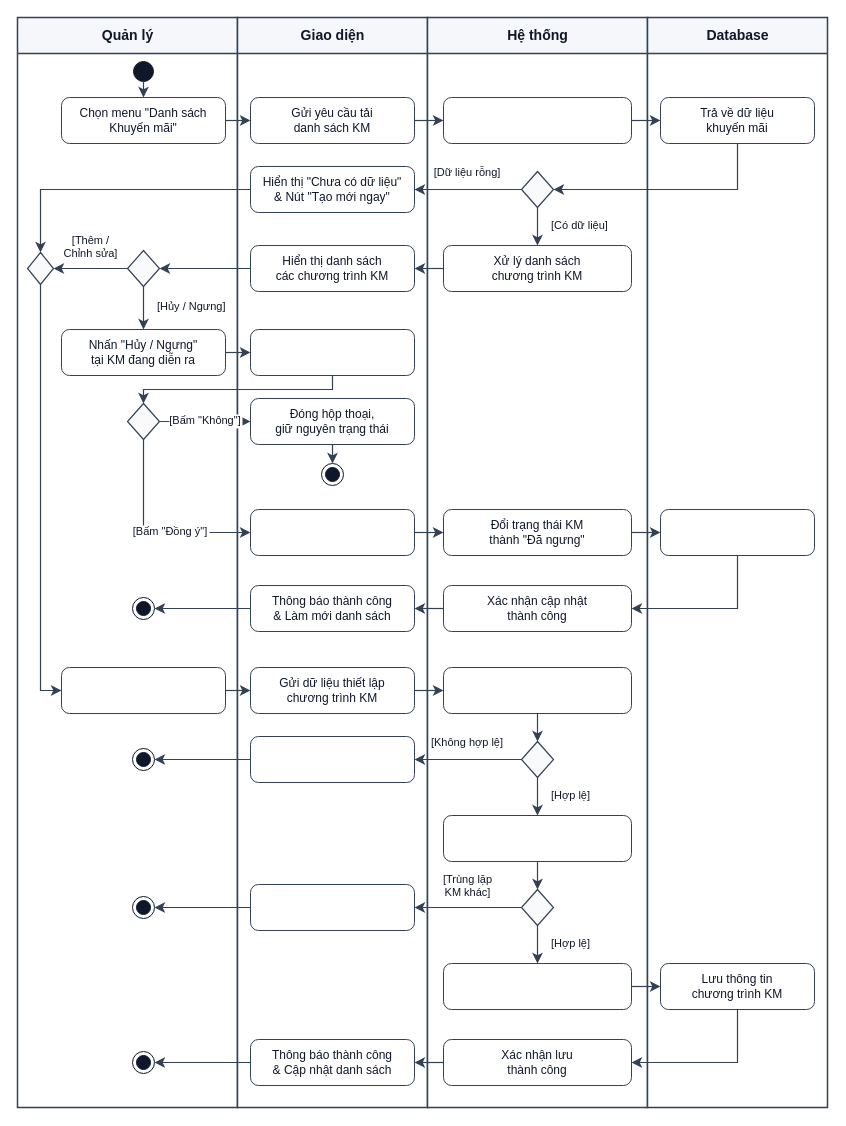
Image size: 846x1126. Some labels were removed from this diagram. Here are the shapes that lost their labels. From the top down, the centre of each, then its label:
pixel 537 120: Truy xuất danh sách chương trình KM
pixel 332 352: Hiển thị hộp thoại xác nhận ngưng KM
pixel 332 532: Gửi yêu cầu ngưng chương trình KM
pixel 737 532: Cập nhật trạng thái vào CSDL
pixel 143 690: Nhập/Sửa thông tin KM & nhấn "Lưu"
pixel 537 690: Kiểm tra quy tắc (Tên, % giảm, Ngày)
pixel 332 759: Báo lỗi "Tên, Thời gian hoặc Mức giảm sai"
pixel 537 838: Kiểm tra xung đột sách / danh mục
pixel 332 907: Cảnh báo "Sách X đang trùng khuyến mãi"
pixel 537 986: Lưu mới / Cập nhật ghi đè chương trình KM
